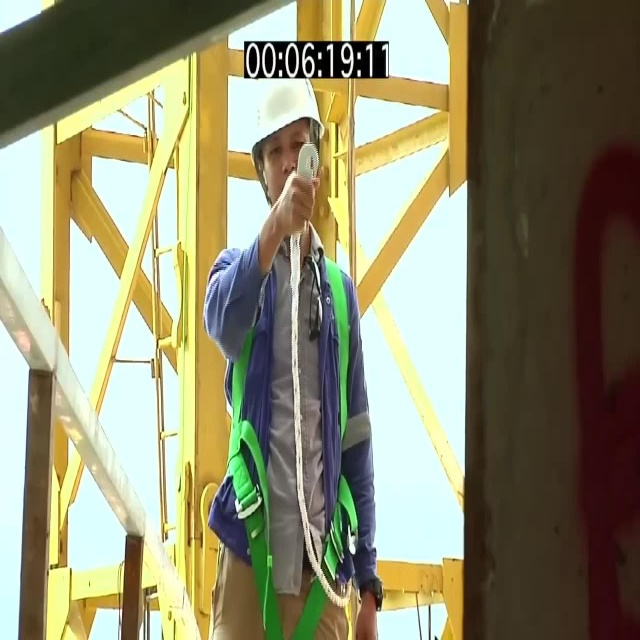Arnes_seguridad: (228, 231, 354, 632)
